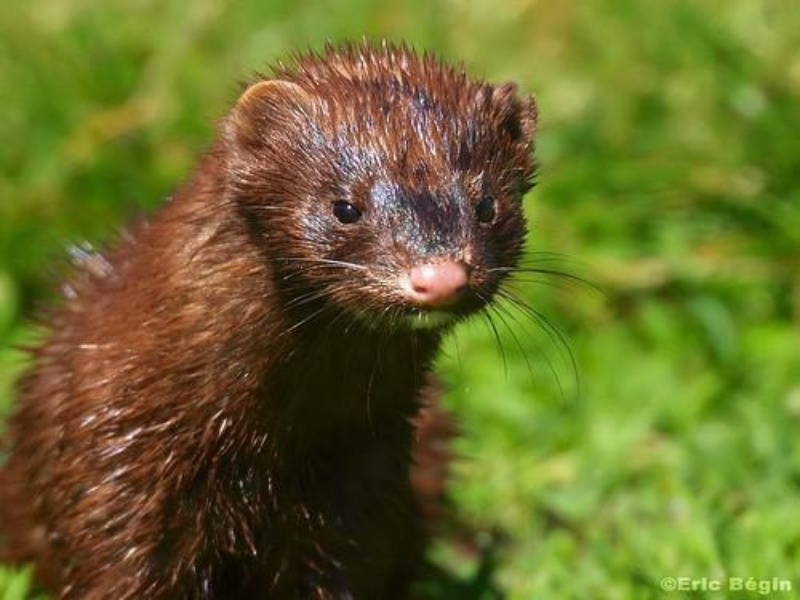minkish: (10, 34, 545, 591)
